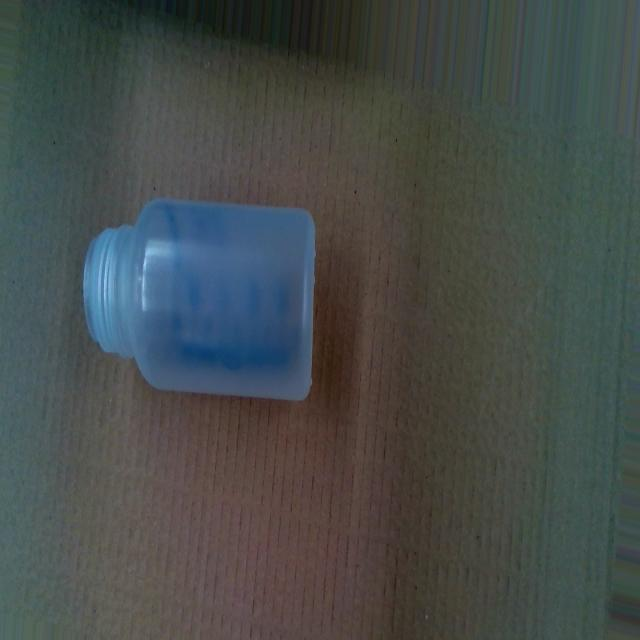bottle: (82, 195, 314, 404)
